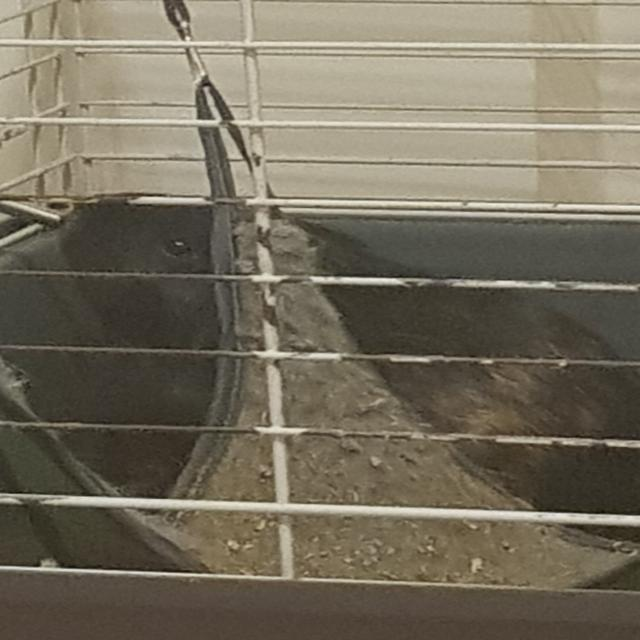guinea pig: (56, 198, 640, 539)
